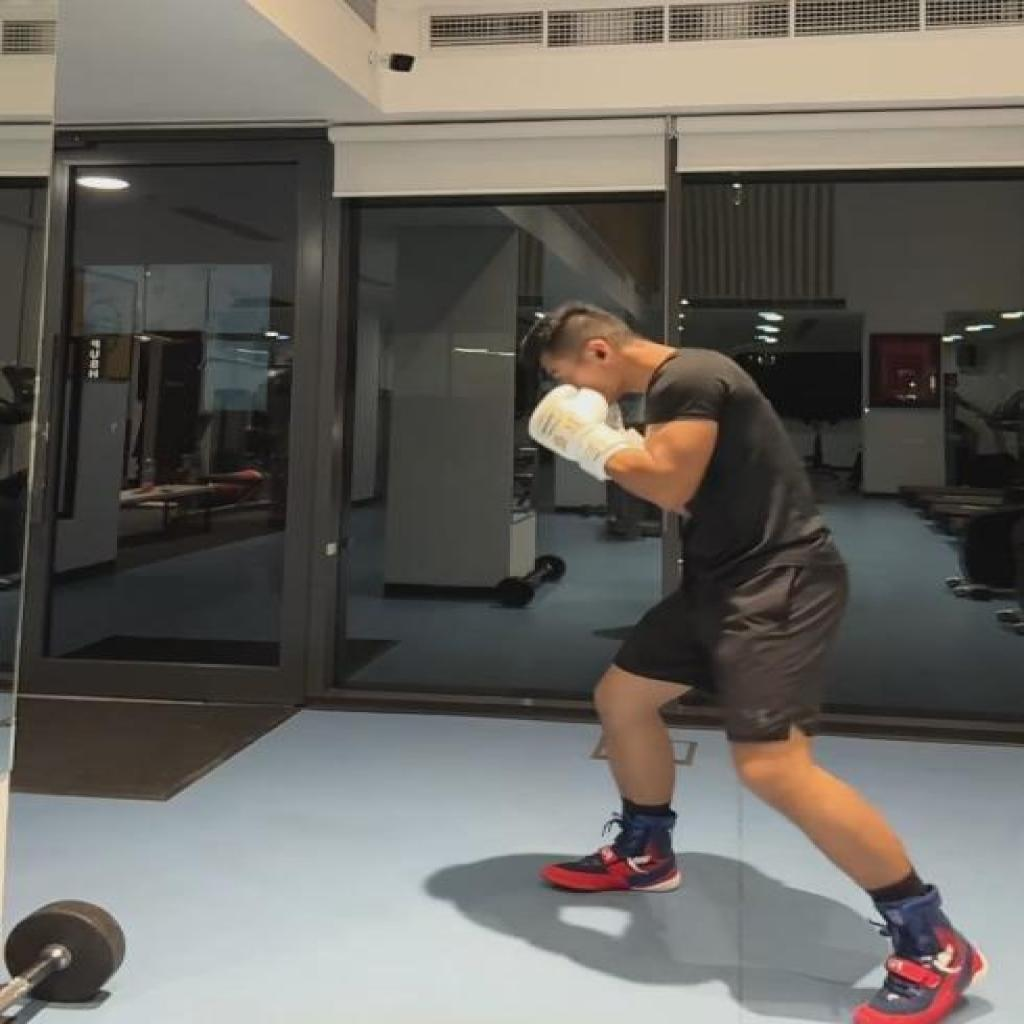no punch: (531, 301, 986, 1024)
